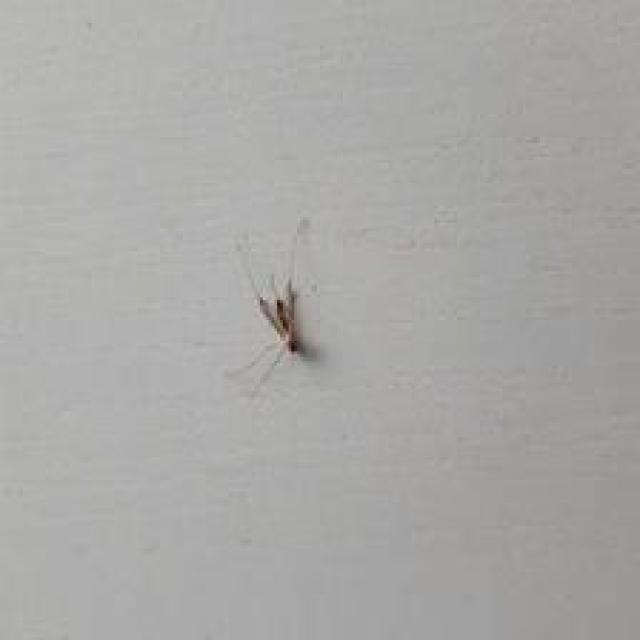Culex: (227, 220, 319, 394)
